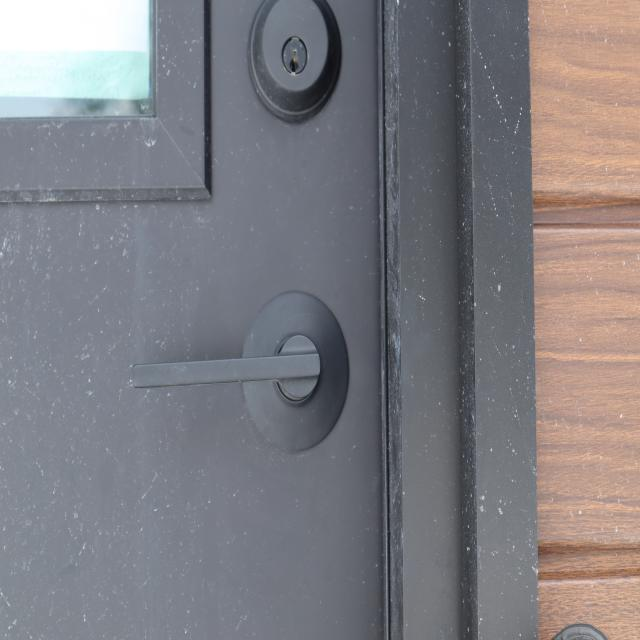door-handle: (132, 291, 349, 454)
